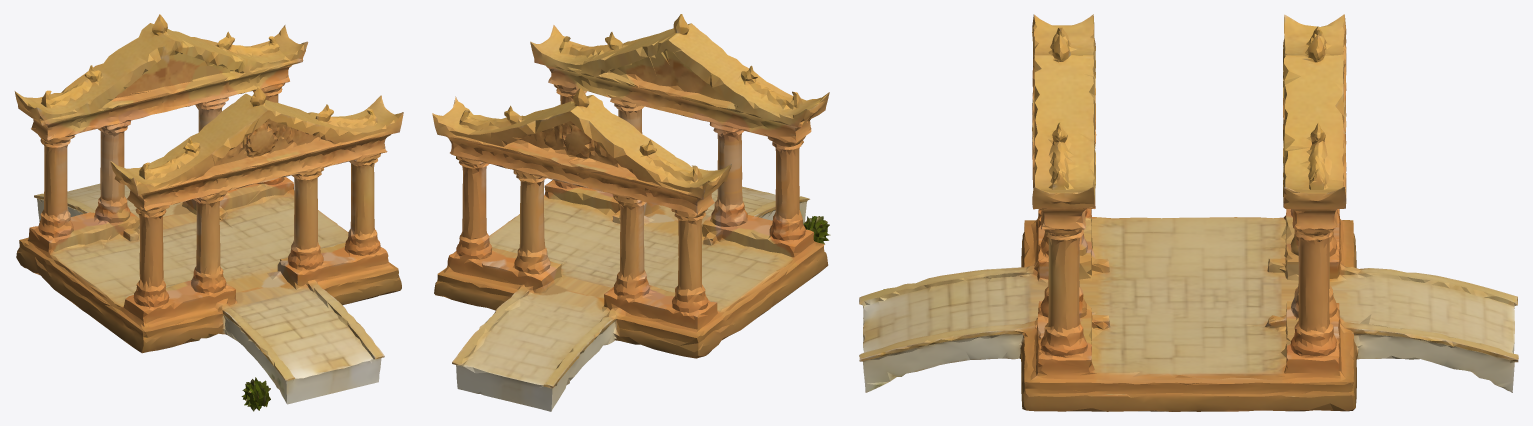
File: curved_temple_path.glb
The picture shows the model from 3 angles, left to right: view 1: azimuth 30°, elevation 25°; view 2: azimuth 150°, elevation 25°; view 3: azimuth 270°, elevation 25°; orthographic projection. The views are drawn at different scales.
Visible parts, largest first — view 1: curved_temple_path; view 2: curved_temple_path; view 3: curved_temple_path.
Part boxes in pixels (box(x1,y1,x2,y2)): curved_temple_path: box(14, 14, 403, 411); curved_temple_path: box(432, 14, 830, 411); curved_temple_path: box(859, 14, 1518, 411).
Bounding box in the file's own units: 1.18 × 1.08 × 1.9.
1 material, 1 textured.
